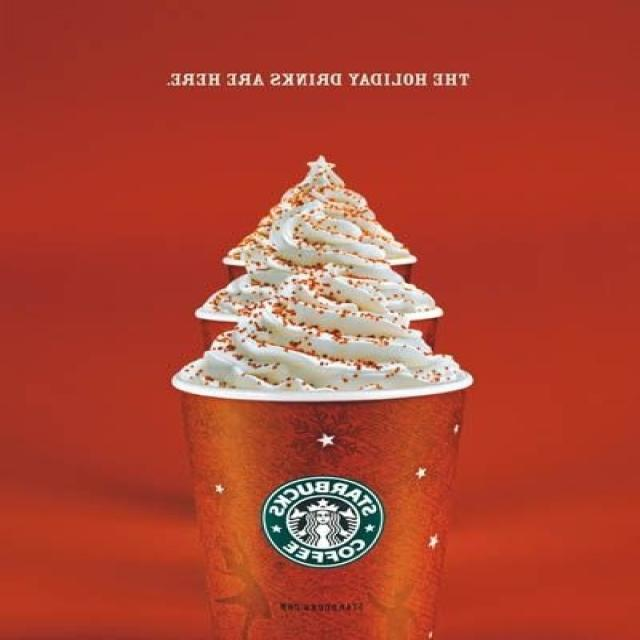starbucks: (257, 476, 395, 571)
